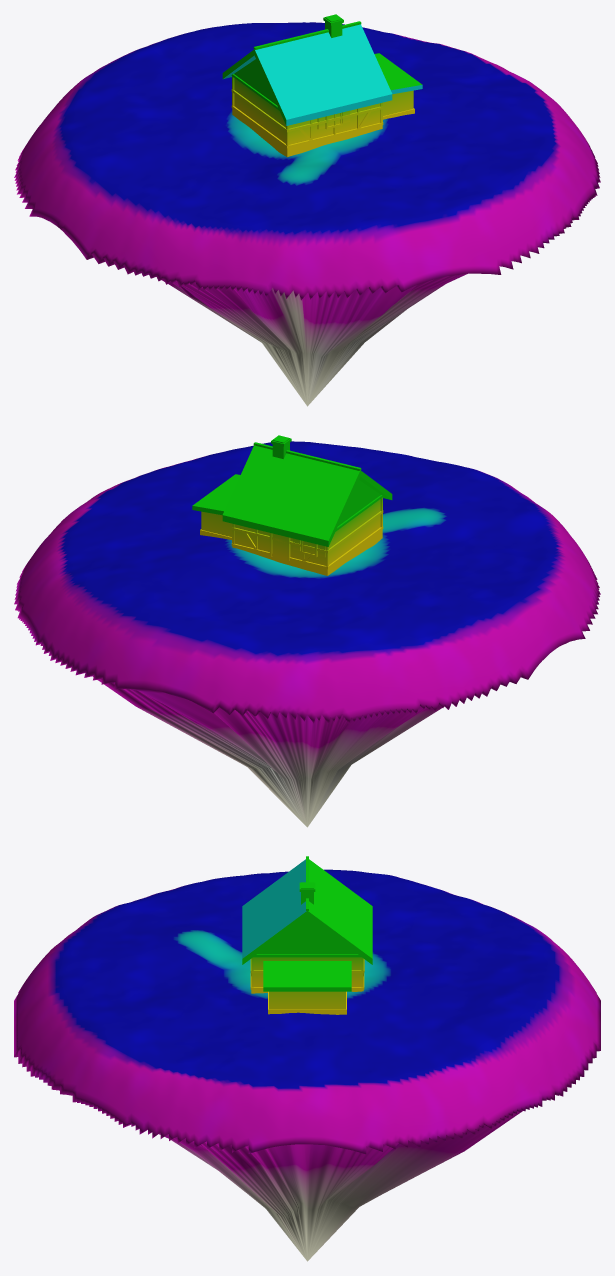
File: origin-kit.glb
The picture shows the model from 3 angles, top to bottom: view 1: azimuth 30°, elevation 25°; view 2: azimuth 150°, elevation 25°; view 3: azimuth 270°, elevation 25°; orthographic projection.
Parts seen in each view (by area): view 1: SM_OriginIsland_R1, SM_SB_HouseC_R1; view 2: SM_OriginIsland_R1, SM_SB_HouseC_R1; view 3: SM_OriginIsland_R1, SM_SB_HouseC_R1.
Boxes of the visible parts, x1,y1,x2,y2 form: SM_OriginIsland_R1: [14, 22, 600, 406]; SM_SB_HouseC_R1: [222, 14, 422, 157]; SM_OriginIsland_R1: [14, 441, 600, 827]; SM_SB_HouseC_R1: [192, 435, 392, 575]; SM_OriginIsland_R1: [14, 869, 600, 1261]; SM_SB_HouseC_R1: [242, 856, 372, 1014].
Size of the model in its own units: 32 by 23.43 by 32.
